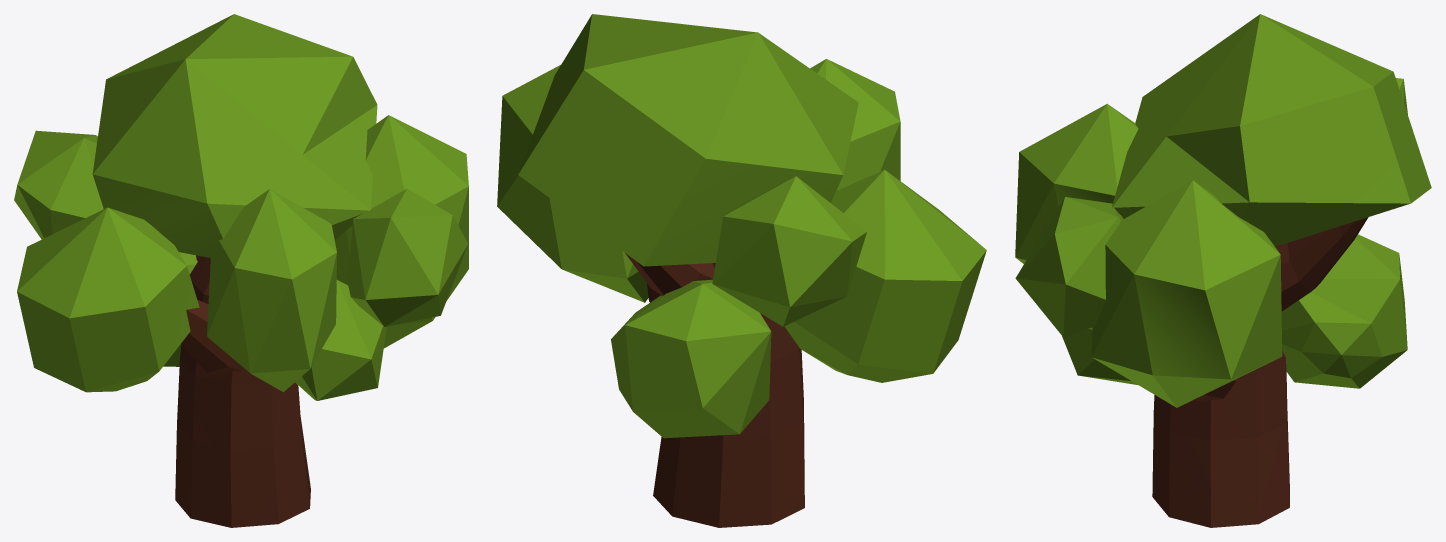
File: tree2.fbx
The picture shows the model from 3 angles, left to right: view 1: azimuth 30°, elevation 25°; view 2: azimuth 150°, elevation 25°; view 3: azimuth 270°, elevation 25°; orthographic projection. The views are drawn at different scales.
Parts seen in each view (by area): view 1: Group6, Group8, Group1, Group9, Group11, Group7, Group10, Group5, Group3; view 2: Group6, Group8, Group12, Group1, Group10, Group7, Group9, Group4; view 3: Group6, Group7, Group1, Group12, Group9, Group11, Group4, Group5.
Boxes of the visible parts, x1,y1,x2,y2 form: Group6: (92, 14, 377, 258); Group8: (17, 207, 199, 392); Group1: (175, 256, 310, 527); Group9: (207, 189, 336, 392); Group11: (348, 188, 467, 326); Group7: (334, 115, 468, 348); Group10: (14, 130, 103, 239); Group5: (295, 280, 386, 400); Group3: (181, 300, 243, 375); Group6: (518, 14, 858, 266); Group8: (784, 169, 986, 382); Group12: (611, 279, 771, 438); Group1: (653, 263, 804, 527); Group10: (712, 176, 866, 326); Group7: (497, 65, 648, 302); Group9: (810, 59, 900, 190); Group4: (625, 253, 714, 296); Group6: (1112, 14, 1431, 246); Group7: (1091, 180, 1282, 407); Group1: (1152, 246, 1289, 527); Group12: (1281, 234, 1407, 388); Group9: (1015, 103, 1138, 263); Group11: (1015, 197, 1123, 336); Group4: (1277, 217, 1368, 311); Group5: (1062, 327, 1137, 384).
Size of the model in its own units: 3.44 by 3.34 by 2.73.
